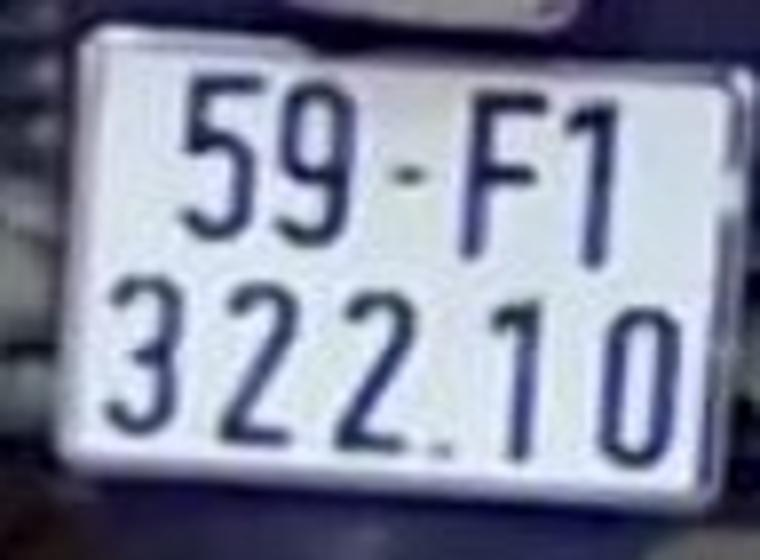-: (392, 161, 431, 189)
.: (423, 434, 456, 472)
0: (601, 294, 682, 472)
1: (560, 87, 630, 275), (492, 294, 554, 477)
2: (331, 285, 424, 465), (218, 275, 303, 455)
3: (96, 272, 192, 443)
5: (176, 65, 268, 250)
9: (273, 72, 362, 254)
F: (458, 82, 554, 261)
